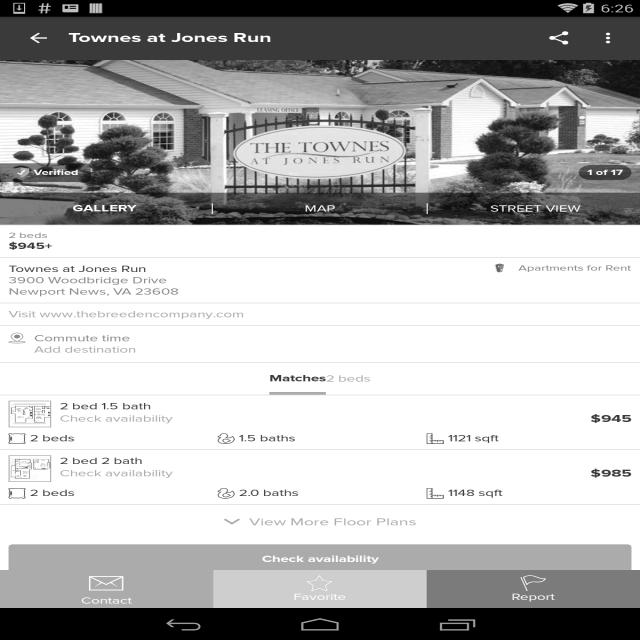Button: (9, 544, 632, 574), (496, 574, 624, 604), (546, 110, 632, 140), (546, 116, 632, 146)
EditText: (9, 171, 632, 250), (9, 157, 632, 235), (9, 240, 632, 270), (9, 276, 632, 306), (9, 311, 632, 341), (9, 255, 632, 285), (9, 290, 632, 320), (9, 326, 632, 356)
ImageButton: (9, 17, 68, 59), (9, 480, 51, 507), (9, 523, 51, 549), (9, 474, 34, 490), (606, 474, 631, 490), (9, 442, 34, 458), (606, 442, 631, 458), (9, 580, 34, 596), (606, 580, 631, 596), (9, 595, 34, 611), (606, 595, 631, 611), (9, 457, 34, 472), (606, 457, 631, 472)
ImageView: (0, 59, 640, 225), (0, 469, 640, 608), (0, 436, 640, 575), (0, 451, 640, 590), (0, 575, 640, 640), (0, 589, 640, 640), (589, 22, 631, 54), (9, 455, 51, 482), (9, 401, 51, 427), (5, 553, 70, 567), (484, 263, 514, 273), (250, 361, 268, 372), (250, 376, 268, 387), (12, 167, 30, 178), (8, 433, 26, 444), (426, 433, 444, 444), (8, 488, 26, 499), (426, 488, 444, 499), (218, 433, 235, 444), (218, 488, 235, 499), (223, 516, 240, 527), (8, 333, 26, 343)
TextView: (0, 309, 640, 325), (9, 578, 544, 592), (9, 392, 632, 404), (9, 407, 632, 419), (8, 560, 567, 573), (0, 192, 210, 225), (430, 192, 640, 225), (215, 192, 424, 225), (60, 455, 631, 467), (9, 546, 566, 558), (9, 546, 536, 558), (60, 401, 631, 412), (60, 413, 586, 424), (60, 468, 586, 479), (9, 275, 179, 297), (68, 30, 272, 46), (10, 118, 261, 131), (9, 103, 210, 117), (9, 103, 202, 117), (10, 132, 188, 146), (9, 429, 148, 446), (10, 118, 187, 131), (268, 357, 389, 376), (268, 372, 389, 391), (10, 118, 186, 131), (9, 415, 148, 431), (30, 487, 213, 499), (239, 487, 422, 499), (448, 487, 631, 499), (8, 558, 183, 570), (9, 558, 182, 570), (10, 103, 157, 117), (249, 516, 417, 528), (30, 433, 213, 444), (239, 433, 422, 444), (448, 433, 631, 444), (529, 22, 589, 54), (9, 573, 182, 584), (16, 591, 187, 602), (9, 591, 163, 603), (286, 65, 353, 92), (81, 61, 132, 96), (81, 572, 132, 606), (10, 132, 128, 146), (9, 263, 146, 275), (10, 132, 126, 146), (34, 606, 133, 622), (9, 147, 128, 160), (293, 575, 346, 603), (555, 539, 632, 558), (293, 65, 346, 92), (9, 580, 168, 589), (562, 572, 632, 591), (512, 575, 555, 603), (512, 65, 555, 92), (518, 263, 632, 273), (34, 344, 136, 355), (34, 333, 130, 344), (585, 539, 632, 558), (586, 554, 632, 573), (578, 165, 632, 180), (269, 373, 326, 384), (583, 591, 631, 603), (16, 577, 67, 588), (586, 558, 632, 570), (590, 412, 632, 425), (590, 467, 632, 480), (9, 240, 52, 252), (586, 573, 632, 584), (326, 373, 371, 384), (590, 558, 631, 570), (34, 168, 78, 177), (544, 572, 563, 591), (567, 554, 586, 573), (566, 539, 585, 558), (8, 231, 48, 240), (537, 539, 555, 558)
